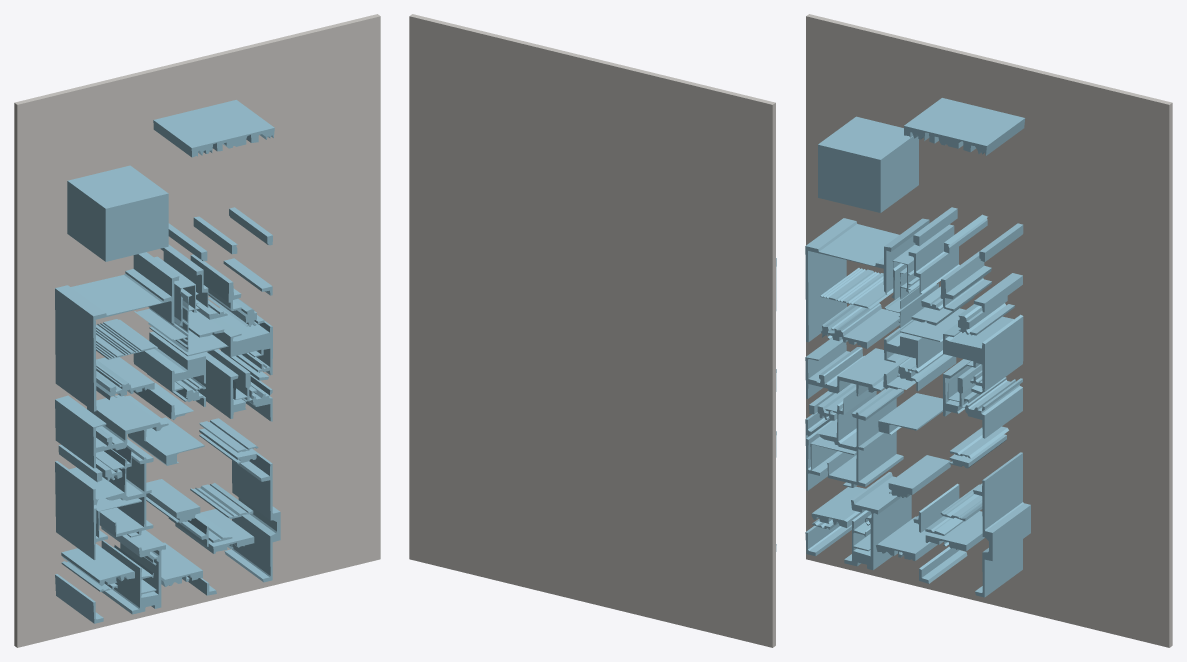
The picture shows the model from 3 angles, left to right: view 1: azimuth 30°, elevation 25°; view 2: azimuth 150°, elevation 25°; view 3: azimuth 330°, elevation 25°; orthographic projection.
Parts seen in each view (by area): view 1: world; view 2: world; view 3: world.
Part boxes in pixels (left/top/right/bottom): world: left=14, top=14, right=380, bottom=647; world: left=409, top=14, right=776, bottom=647; world: left=805, top=14, right=1172, bottom=647.
Size of the model in its own units: 10.23 by 14.61 by 2.02.
